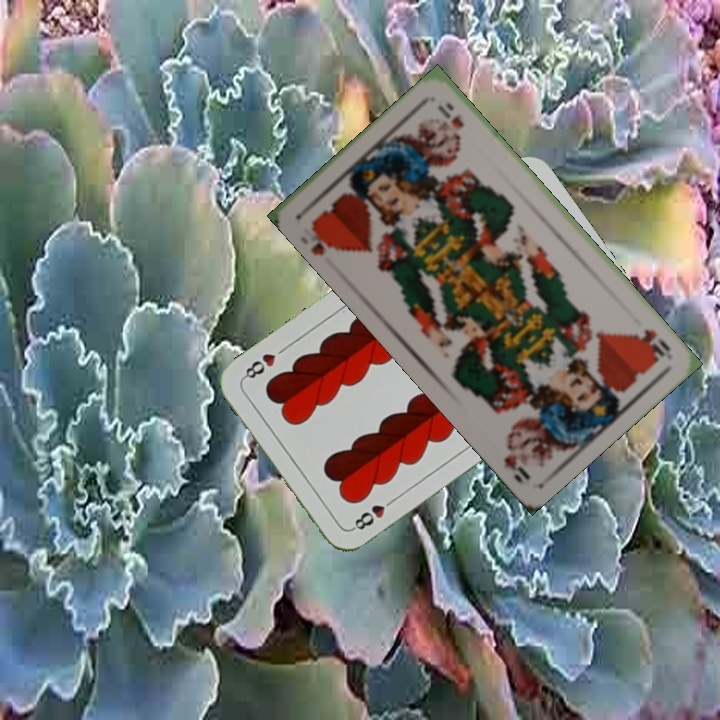H8: (347, 493, 399, 533)
HO: (631, 324, 673, 363), (306, 217, 341, 259)
